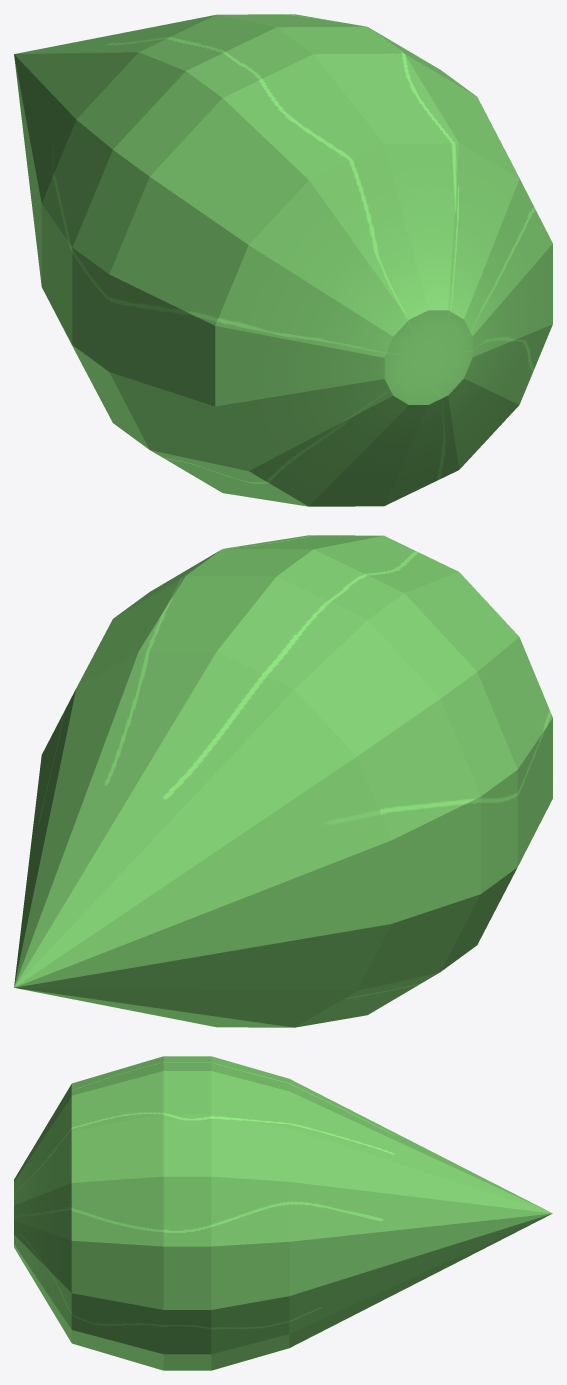
File: bullet.glb
The picture shows the model from 3 angles, top to bottom: view 1: azimuth 30°, elevation 25°; view 2: azimuth 150°, elevation 25°; view 3: azimuth 270°, elevation 25°; orthographic projection. The views are drawn at different scales.
Parts seen in each view (by area): view 1: Cube; view 2: Cube; view 3: Cube.
Part boxes in pixels (x1=…): Cube: x1=14, y1=14, x2=552, y2=506; Cube: x1=14, y1=535, x2=552, y2=1027; Cube: x1=14, y1=1056, x2=552, y2=1370.
Size of the model in its own units: 0.5688 by 0.5834 by 1.
1 material, 1 textured.
